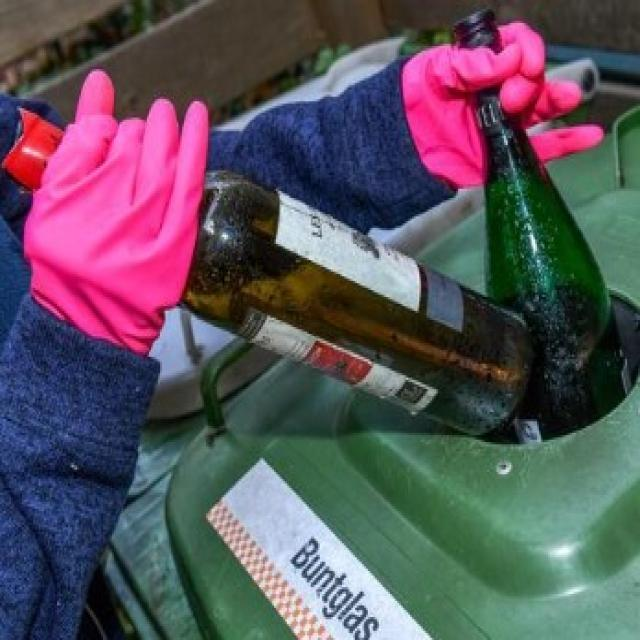electronic: (3, 94, 543, 443), (450, 7, 634, 441)
